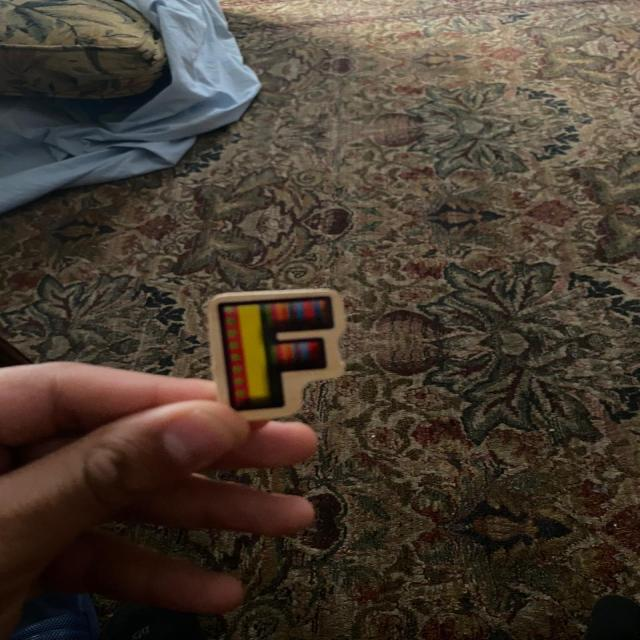F: (208, 289, 344, 420)
